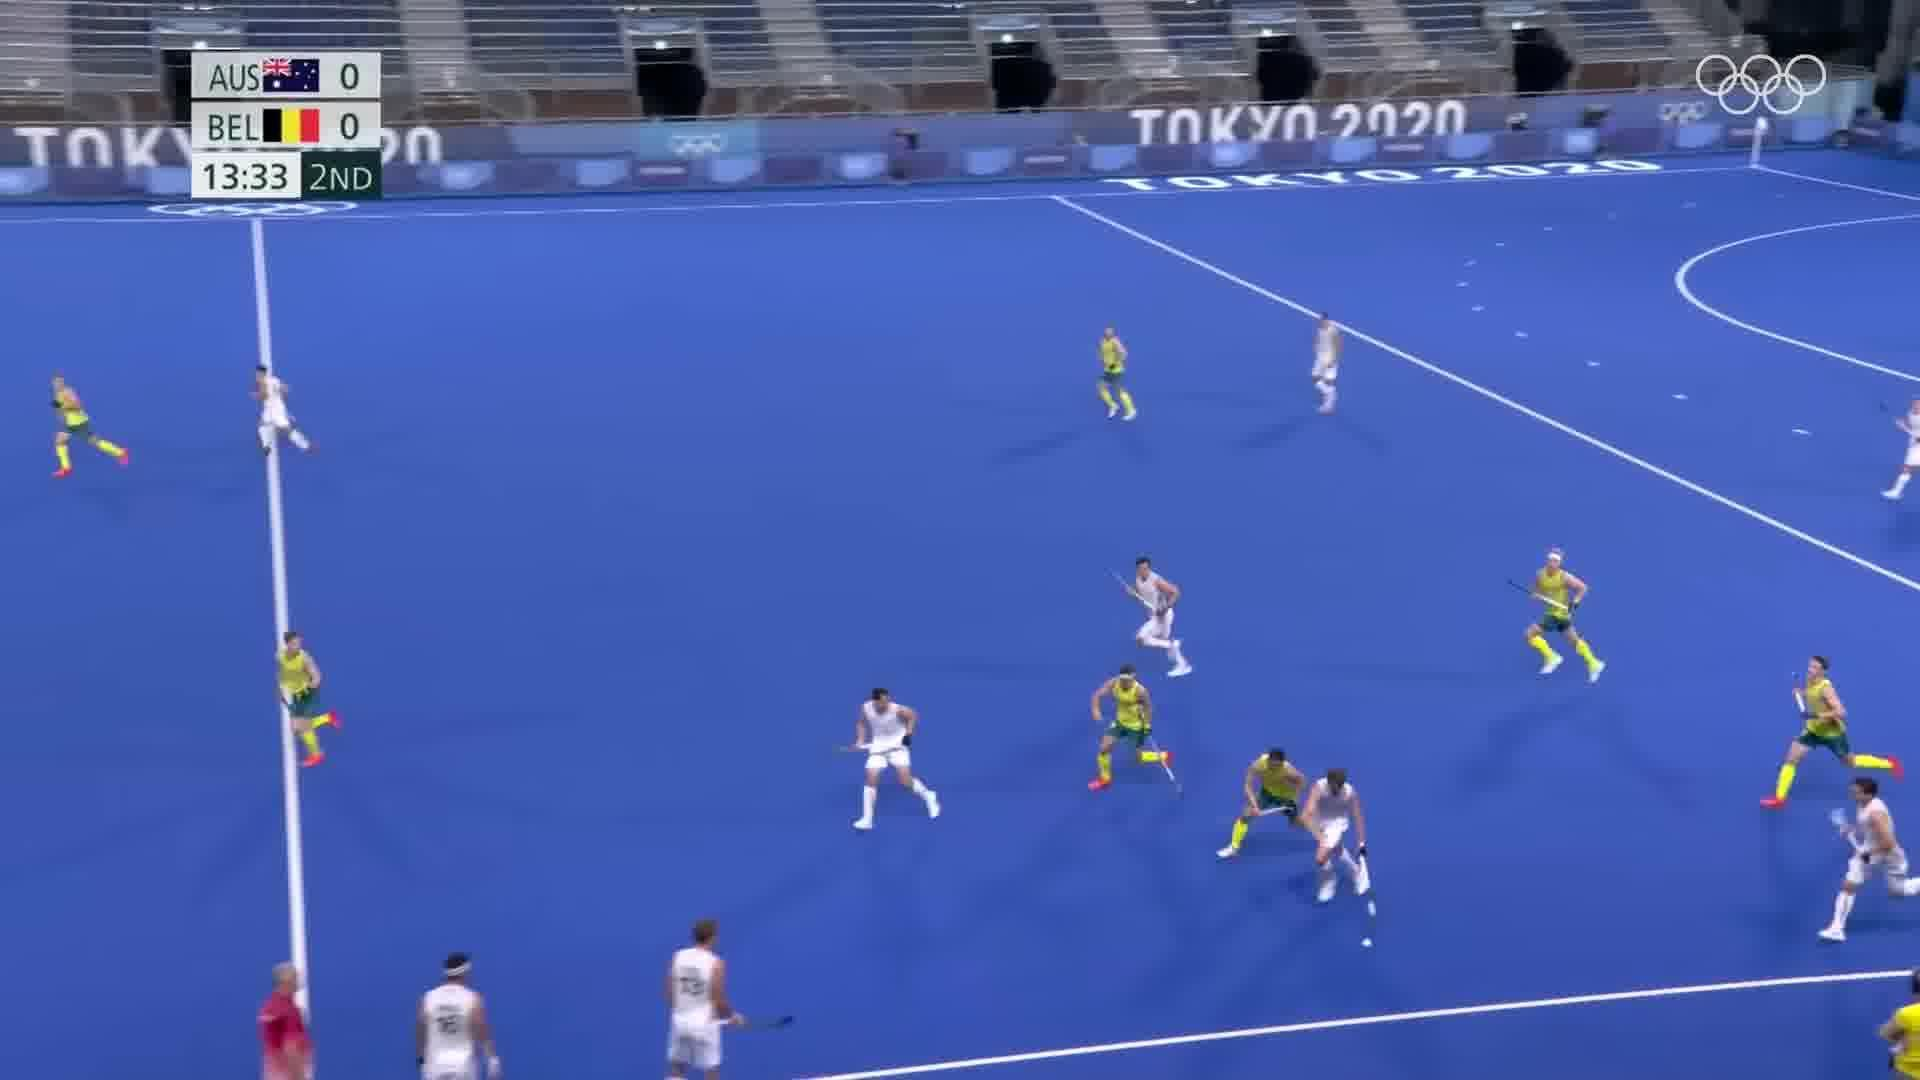ball: (1357, 925, 1380, 954)
